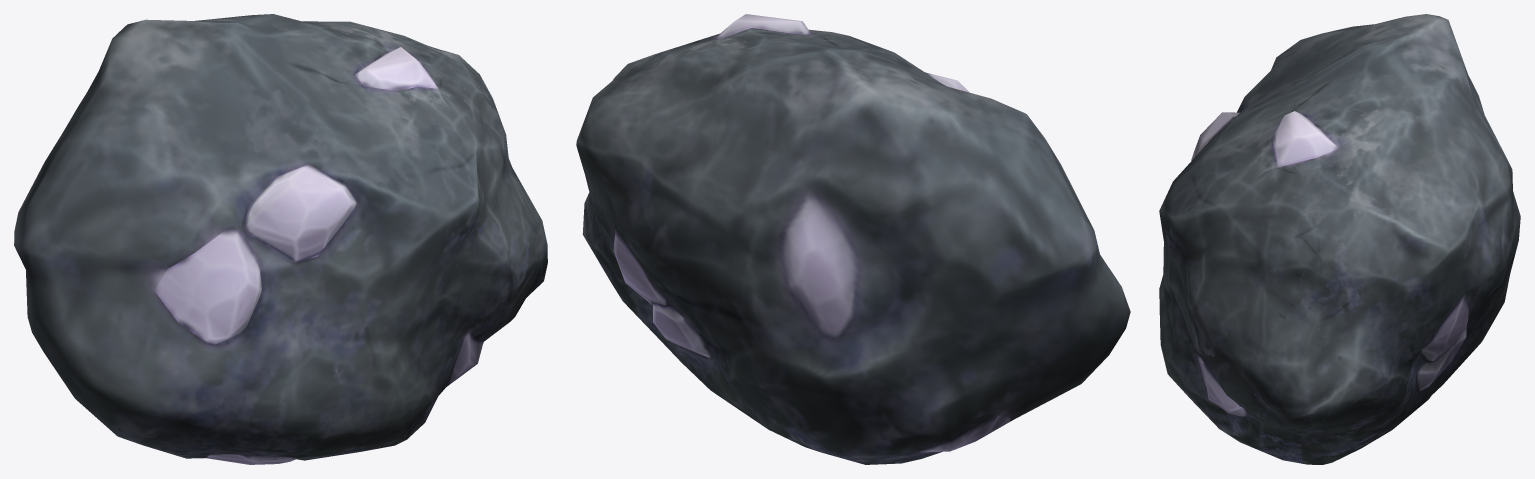
Rendered from SM_Gem_Diamond_008.fbx.
3 views of the same model, side by side, from view 1: azimuth 30°, elevation 25°; view 2: azimuth 150°, elevation 25°; view 3: azimuth 270°, elevation 25° (orthographic). The views are drawn at different scales.
Parts seen in each view (by area): view 1: SM_Gem_Diamond_008; view 2: SM_Gem_Diamond_008; view 3: SM_Gem_Diamond_008.
Part boxes in pixels (<box>): SM_Gem_Diamond_008: <box>14,14,547,464</box>; SM_Gem_Diamond_008: <box>576,14,1130,464</box>; SM_Gem_Diamond_008: <box>1159,14,1520,464</box>.
Size of the model in its own units: 74.06 by 57.57 by 49.62.
